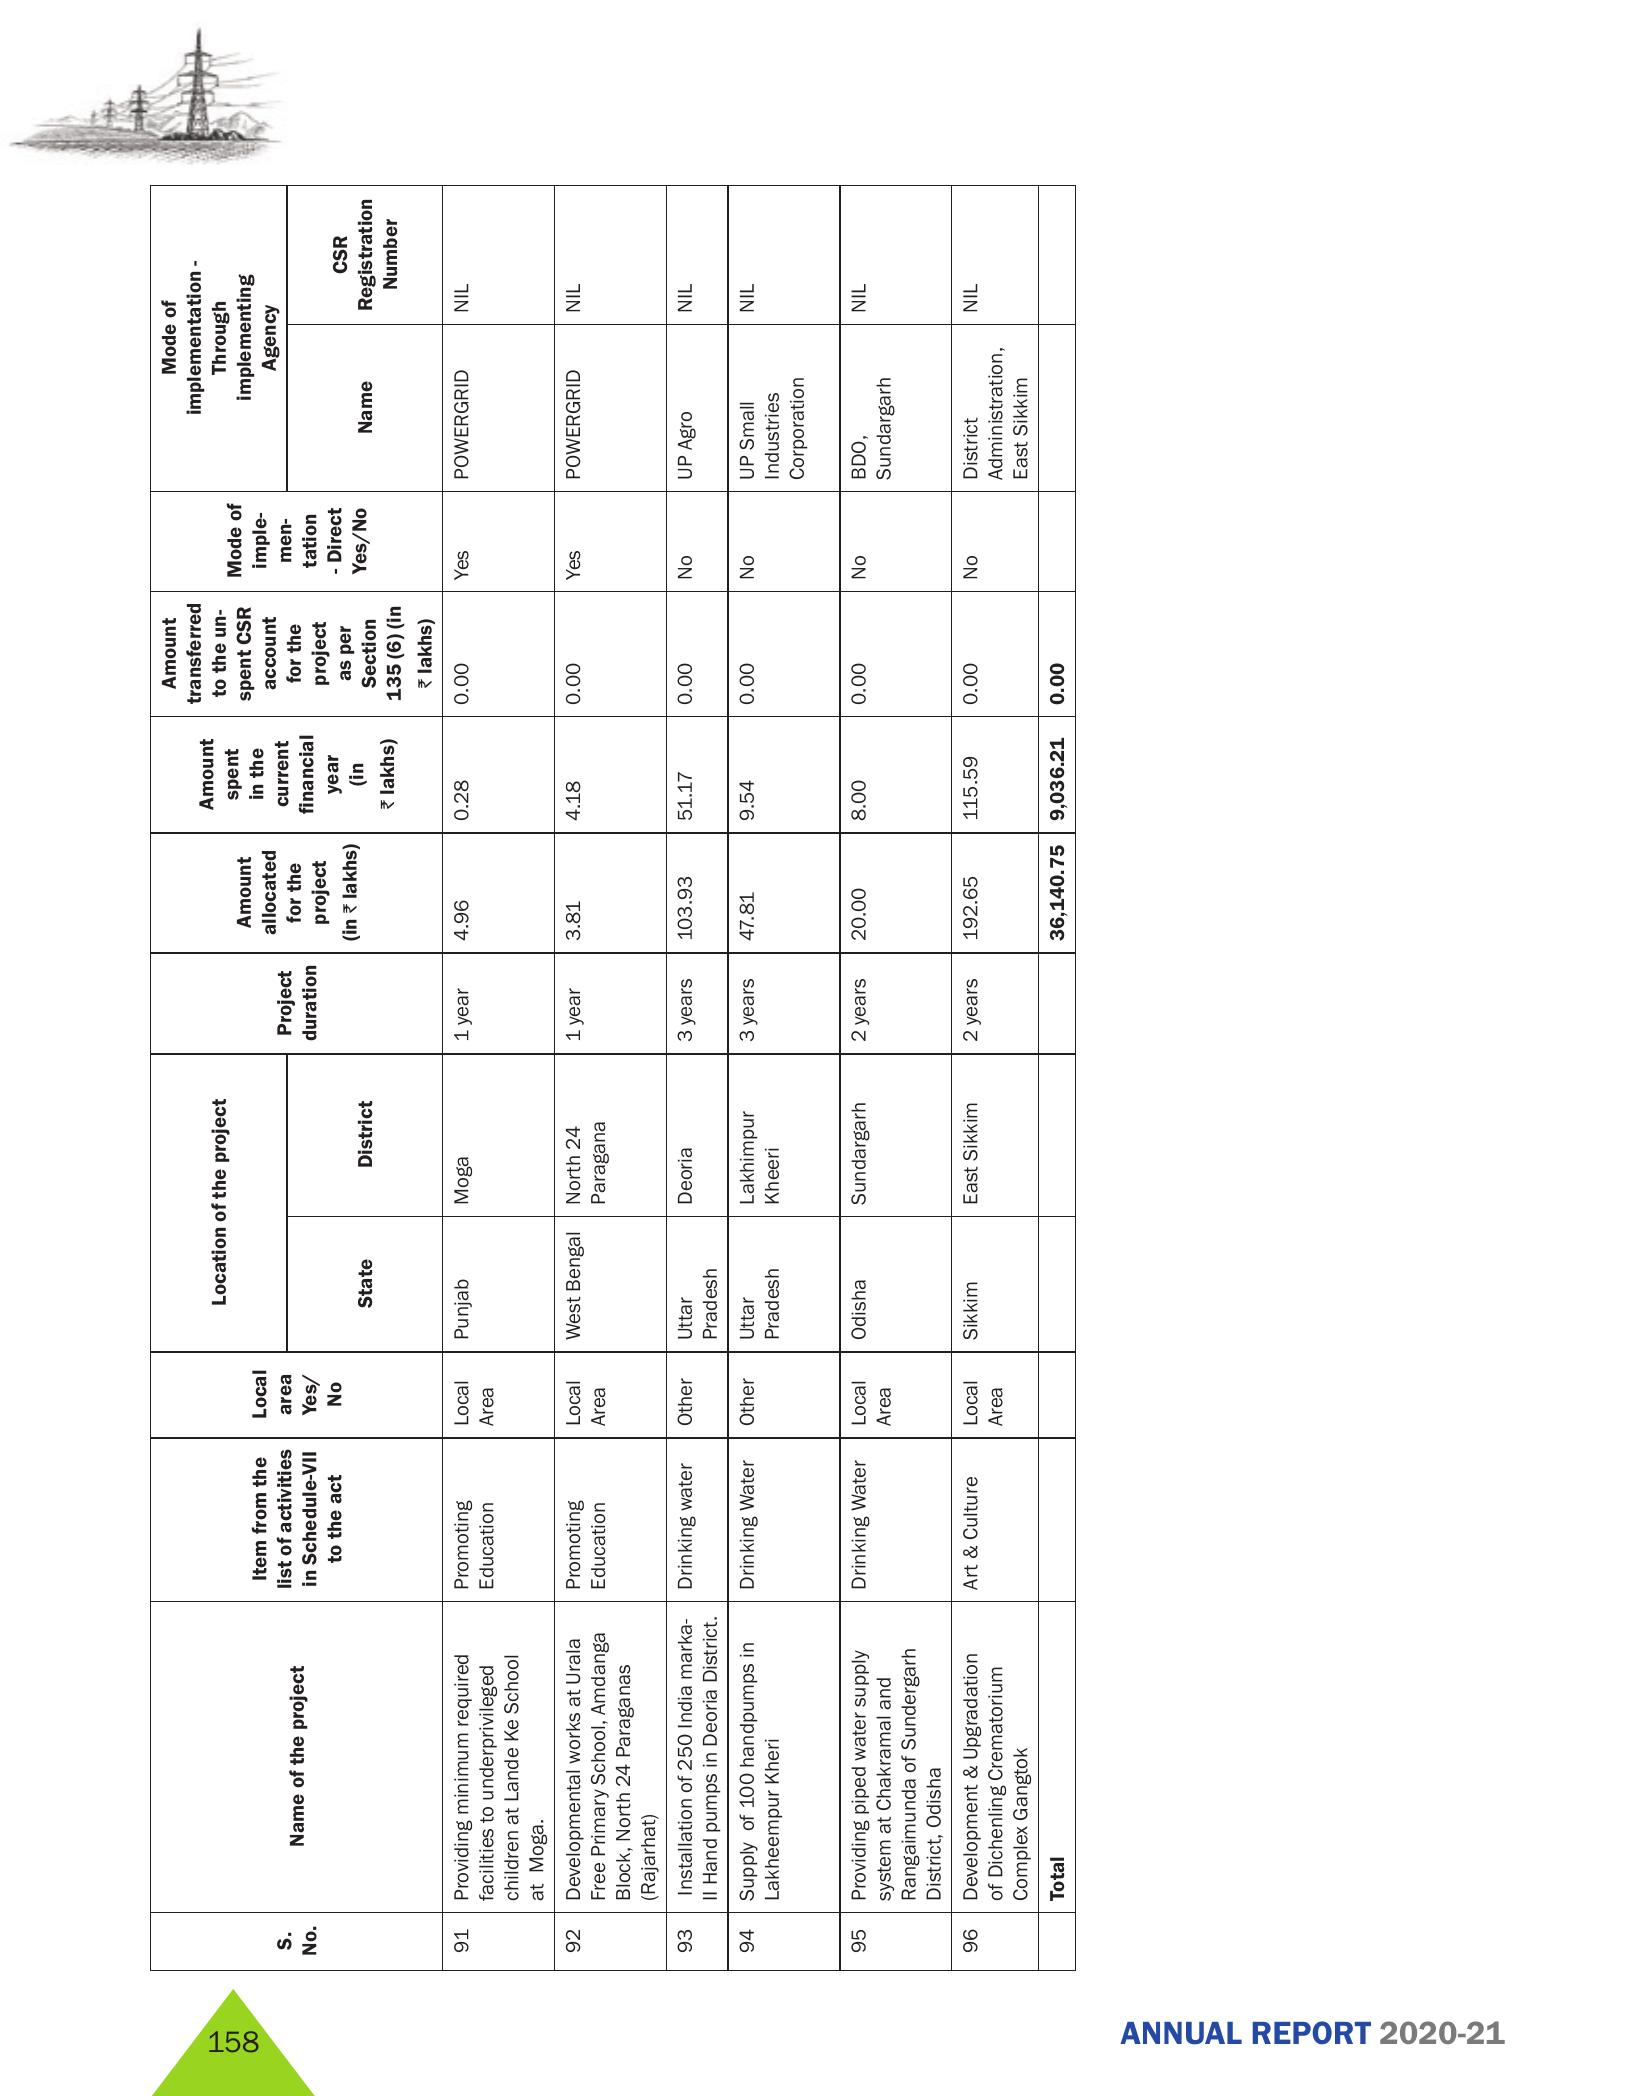Footer: (0, 1968, 1650, 2096)
Header: (0, 0, 1650, 172)
Table: (102, 180, 1107, 1979)
